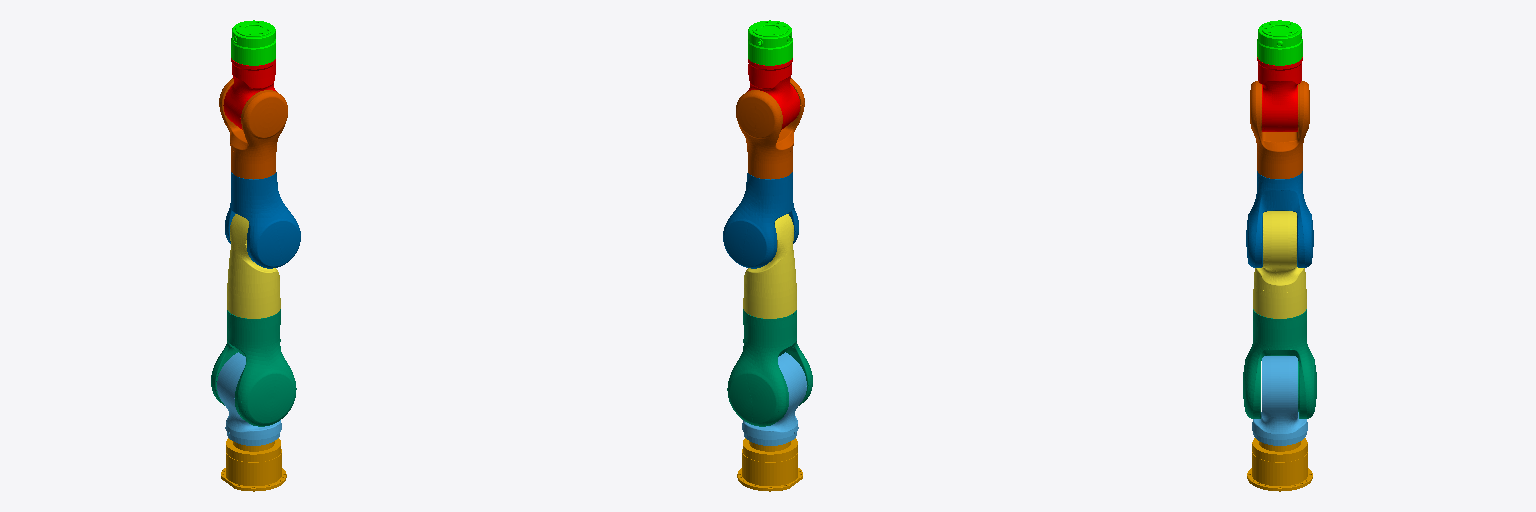
robot.urdf — DobotCR5:
<?xml version="1.0" ?>
<!-- =================================================================================== -->
<!-- |    This document was autogenerated by xacro from robot.xacro                    | -->
<!-- |    EDITING THIS FILE BY HAND IS NOT RECOMMENDED                                 | -->
<!-- =================================================================================== -->
<robot name="DobotCR5">
  <!-- Base link -->
  <link name="base_link">
    <inertial>
      <origin xyz="0.0001427 1.626E-05 0.039067"/>
      <mass value="1.2946"/>
      <inertia ixx="0.00116453" ixy="1.06E-06" ixz="-8.13E-06" iyy="0.00114921" iyz="3.08E-06" izz="0.00141686"/>
    </inertial>
    <visual>
      <geometry>
        <mesh filename="package://m6_srs_description/meshes/base.obj"/>
      </geometry>
    </visual>
    <collision>
      <geometry>
        <mesh filename="package://m6_srs_description/meshes/base.obj"/>
      </geometry>
    </collision>
  </link>
  <!-- link 1 -->
  <link name="link1">
    <inertial>
      <origin xyz="1.875E-05 0.006003 0.1438"/>
      <mass value="2.0926"/>
      <inertia ixx="0.00515643" ixy="2.62E-06" ixz="3.78E-06" iyy="0.0055553" iyz="0.00038404" izz="0.00198037"/>
    </inertial>
    <visual>
      <geometry>
        <mesh filename="package://m6_srs_description/meshes/link1.obj"/>
      </geometry>
    </visual>
    <collision>
      <geometry>
        <mesh filename="package://m6_srs_description/meshes/link1.obj"/>
      </geometry>
    </collision>
  </link>
  <!-- Joint 1 -->
  <joint name="joint1" type="revolute">
    <parent link="base_link"/>
    <child link="link1"/>
    <axis xyz="0 0 1"/>
    <limit effort="108" lower="-3.1067" upper="3.1067" velocity="3.1416"/>
  </joint>
  <!-- link 2 -->
  <link name="link2">
    <inertial>
      <origin xyz="-7.03E-06 0.05542 0.010995"/>
      <mass value="1.9432"/>
      <inertia ixx="0.01035460" ixy="-5.59E-06" ixz="2.06E-06" iyy="0.00316139" iyz="-0.00119042" izz="0.00953530"/>
    </inertial>
    <visual>
      <geometry>
        <mesh filename="package://m6_srs_description/meshes/link2.obj"/>
      </geometry>
    </visual>
    <collision>
      <geometry>
        <mesh filename="package://m6_srs_description/meshes/link2.obj"/>
      </geometry>
    </collision>
  </link>
  <!-- Joint 2 -->
  <joint name="joint2" type="revolute">
    <origin rpy="1.5708 0 0" xyz="0 0 0.1745"/>
    <parent link="link1"/>
    <child link="link2"/>
    <axis xyz="0 0 1"/>
    <limit effort="108" lower="-2.0944" upper="2.0944" velocity="3.1416"/>
  </joint>
  <!-- link 3 -->
  <link name="link3">
    <inertial>
      <origin xyz="0.0087411 0.0019043 0.23487"/>
      <mass value="1.6913"/>
      <inertia ixx="0.00650115" ixy="3.338E-05" ixz="0.00079318" iyy="0.00689453" iyz="0.00017675" izz="0.00164437"/>
    </inertial>
    <visual>
      <geometry>
        <mesh filename="package://m6_srs_description/meshes/link3.obj"/>
      </geometry>
    </visual>
    <collision>
      <geometry>
        <mesh filename="package://m6_srs_description/meshes/link3.obj"/>
      </geometry>
    </collision>
  </link>
  <!-- Joint 3 -->
  <joint name="joint3" type="revolute">
    <origin rpy="-1.5708 0 0" xyz="0 0 0"/>
    <parent link="link2"/>
    <child link="link3"/>
    <axis xyz="0 0 1"/>
    <limit effort="66" lower="-3.1067" upper="3.1067" velocity="3.1416"/>
  </joint>
  <!-- link 4 -->
  <link name="link4">
    <inertial>
      <origin xyz="-0.00734397 0.04342803 0.01090610"/>
      <mass value="1.44022"/>
      <inertia ixx="0.00530332" ixy="-0.00059200" ixz="0.00012225" iyy="0.00200619" iyz="-0.00069378" izz="0.00491970"/>
    </inertial>
    <visual>
      <geometry>
        <mesh filename="package://m6_srs_description/meshes/link4.obj"/>
      </geometry>
    </visual>
    <collision>
      <geometry>
        <mesh filename="package://m6_srs_description/meshes/link4.obj"/>
      </geometry>
    </collision>
  </link>
  <!-- Joint 4 -->
  <joint name="joint4" type="revolute">
    <origin rpy="1.5708 0 0" xyz="0.018 0 0.287"/>
    <parent link="link3"/>
    <child link="link4"/>
    <axis xyz="0 0 1"/>
    <limit effort="66" lower="-2.5307" upper="1.0472" velocity="3.1416"/>
  </joint>
  <!-- link 5 -->
  <link name="link5">
    <inertial>
      <origin xyz="0.00003950 -0.00840978 0.19192382"/>
      <mass value="1.18638637"/>
      <inertia ixx="0.00379851" ixy="0.00000036" ixz="-0.00000177" iyy="0.00343926" iyz="-0.00050064" izz="0.00133506"/>
    </inertial>
    <visual>
      <geometry>
        <mesh filename="package://m6_srs_description/meshes/link5.obj"/>
      </geometry>
    </visual>
    <collision>
      <geometry>
        <mesh filename="package://m6_srs_description/meshes/link5.obj"/>
      </geometry>
    </collision>
  </link>
  <!-- Joint 5 -->
  <joint name="joint5" type="revolute">
    <origin rpy="-1.5708 0 0" xyz="-0.018 0 0"/>
    <parent link="link4"/>
    <child link="link5"/>
    <axis xyz="0 0 1"/>
    <limit effort="18" lower="-3.1067" upper="3.1067" velocity="3.1416"/>
  </joint>
  <!-- link 6 -->
  <link name="link6">
    <inertial>
      <origin xyz="0.00001592 0.03649 -0.00142323"/>
      <mass value="1.04934394"/>
      <inertia ixx="0.00231171" ixy="-0.00000121" ixz="-0.00000025" iyy="0.00065728" iyz="0.00006690" izz="0.00243087"/>
    </inertial>
    <visual>
      <geometry>
        <mesh filename="package://m6_srs_description/meshes/link6.obj"/>
      </geometry>
      <material name="">
        <color rgba="1 0 0 1"/>
      </material>
    </visual>
    <collision>
      <geometry>
        <mesh filename="package://m6_srs_description/meshes/link6.obj"/>
      </geometry>
    </collision>
  </link>
  <!-- Joint 6 -->
  <joint name="joint6" type="revolute">
    <origin rpy="1.5708 0 0" xyz="0 0 0.242"/>
    <parent link="link5"/>
    <child link="link6"/>
    <axis xyz="0 0 1"/>
    <limit effort="18" lower="-1.9199" upper="1.9199" velocity="3.1416"/>
  </joint>
  <!-- link 7 -->
  <link name="link7">
    <inertial>
      <origin xyz="-7.58E-05 1.6597E-04 0.1183953"/>
      <mass value="0.5268"/>
      <inertia ixx="0.00768725" ixy="0.00000094" ixz="-0.00000609" iyy="0.00768792" iyz="-0.00001163" izz="0.00038293"/>
    </inertial>
    <visual>
      <geometry>
        <mesh filename="package://m6_srs_description/meshes/link7.obj" scale="1 -1 1"/>
      </geometry>
      <material name="">
        <color rgba="0 1 0 1"/>
      </material>
    </visual>
    <collision>
      <geometry>
        <mesh filename="package://m6_srs_description/meshes/link7.obj" scale="1 -1 1"/>
      </geometry>
    </collision>
  </link>
  <!-- Joint 7 -->
  <joint name="joint7" type="revolute">
    <origin rpy="-1.5708 0 0" xyz="0 0 0"/>
    <parent link="link6"/>
    <child link="link7"/>
    <axis xyz="0 0 1"/>
    <limit effort="18" lower="-3.1067" upper="3.1067" velocity="3.1416"/>
  </joint>
</robot>

--- What the picture shows (computed from the rendered views, not written in the file) ---
3 views of the same robot in one strip: view 1: azimuth 30°, elevation 25°; view 2: azimuth 150°, elevation 25°; view 3: azimuth 270°, elevation 25° (orthographic).
Model DobotCR5 with 8 links and 7 joints (7 revolute), rooted at base_link, posed all joints at 0.
Links seen in each view (by area): view 1: link2, link4, link5, link3, base_link, link1, link6, link7; view 2: link2, link4, link5, link3, base_link, link1, link6, link7; view 3: link3, link2, link1, link4, link5, base_link, link6, link7.
Boxes of the visible links, box(x1,y1,x2,y2) form: link2: box(211, 309, 296, 426); link4: box(225, 172, 300, 268); link5: box(219, 78, 287, 179); link3: box(227, 214, 280, 318); base_link: box(221, 438, 286, 491); link1: box(217, 352, 281, 445); link6: box(223, 58, 276, 129); link7: box(231, 20, 275, 65); link2: box(727, 309, 812, 426); link4: box(723, 172, 798, 268); link5: box(736, 78, 804, 179); link3: box(743, 214, 796, 318); base_link: box(737, 438, 802, 491); link1: box(742, 352, 806, 445); link6: box(747, 58, 799, 129); link7: box(748, 20, 792, 65); link3: box(1253, 211, 1306, 318); link2: box(1243, 309, 1316, 418); link1: box(1252, 356, 1307, 445); link4: box(1246, 171, 1313, 267); link5: box(1250, 81, 1309, 178); base_link: box(1247, 438, 1312, 491); link6: box(1257, 57, 1302, 131); link7: box(1257, 20, 1302, 65).
Bounding box of the posed robot: 0.1262 × 0.1271 × 0.8585 m (x, y, z).
8 mesh visuals loaded from 8 distinct referenced files (8 OBJ).
